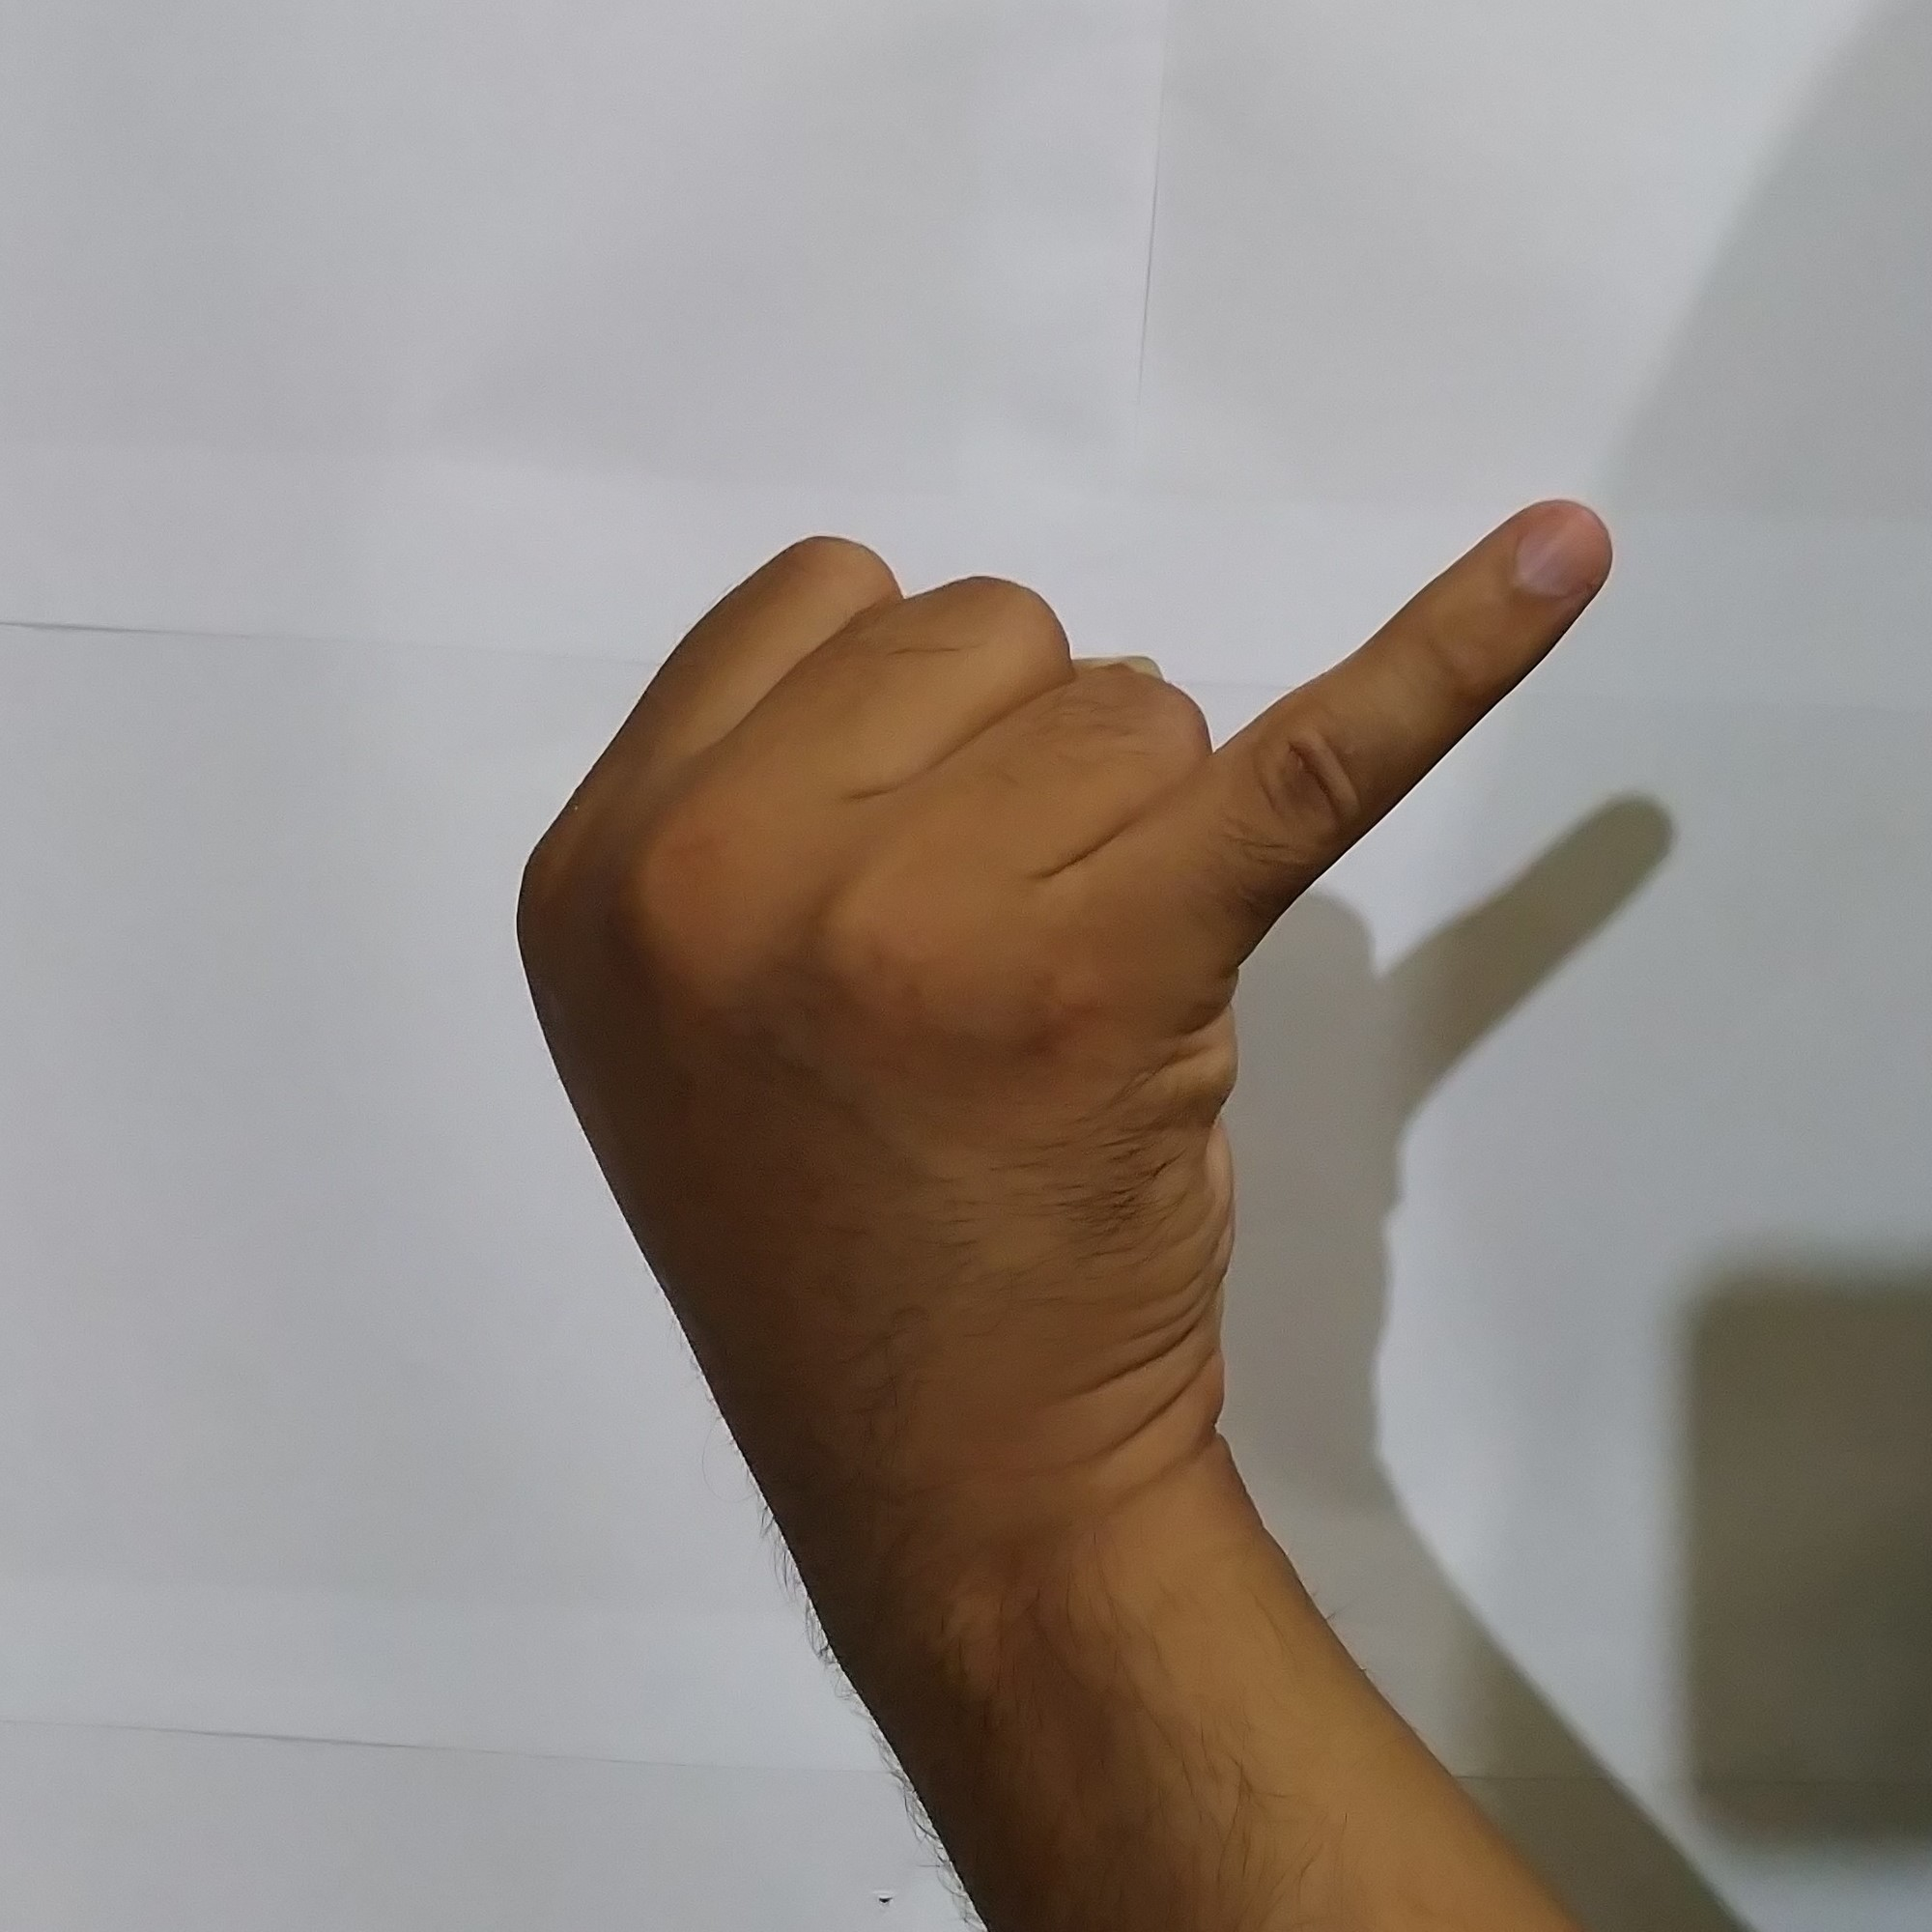J: (499, 474, 1642, 1430)
